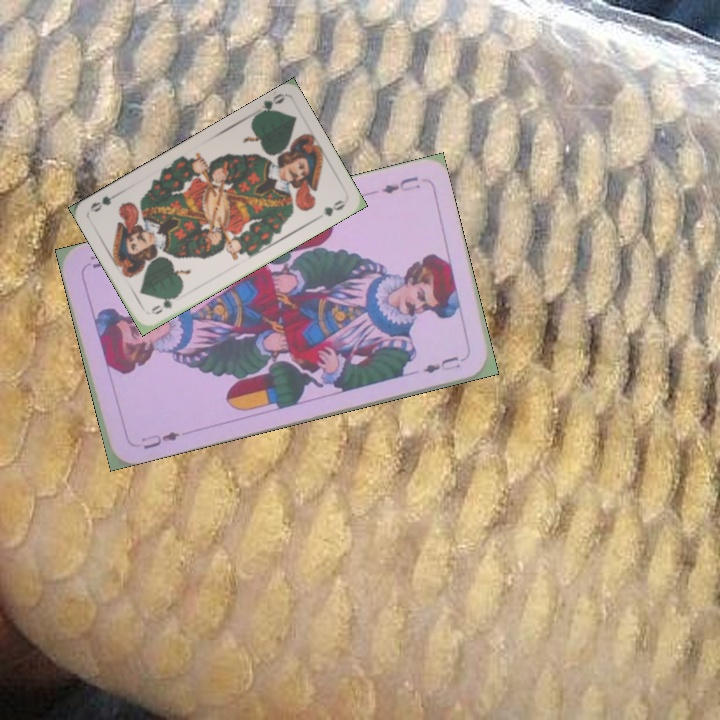EU: (137, 427, 183, 452), (378, 172, 423, 197)
GO: (250, 89, 287, 121), (147, 290, 182, 317)
